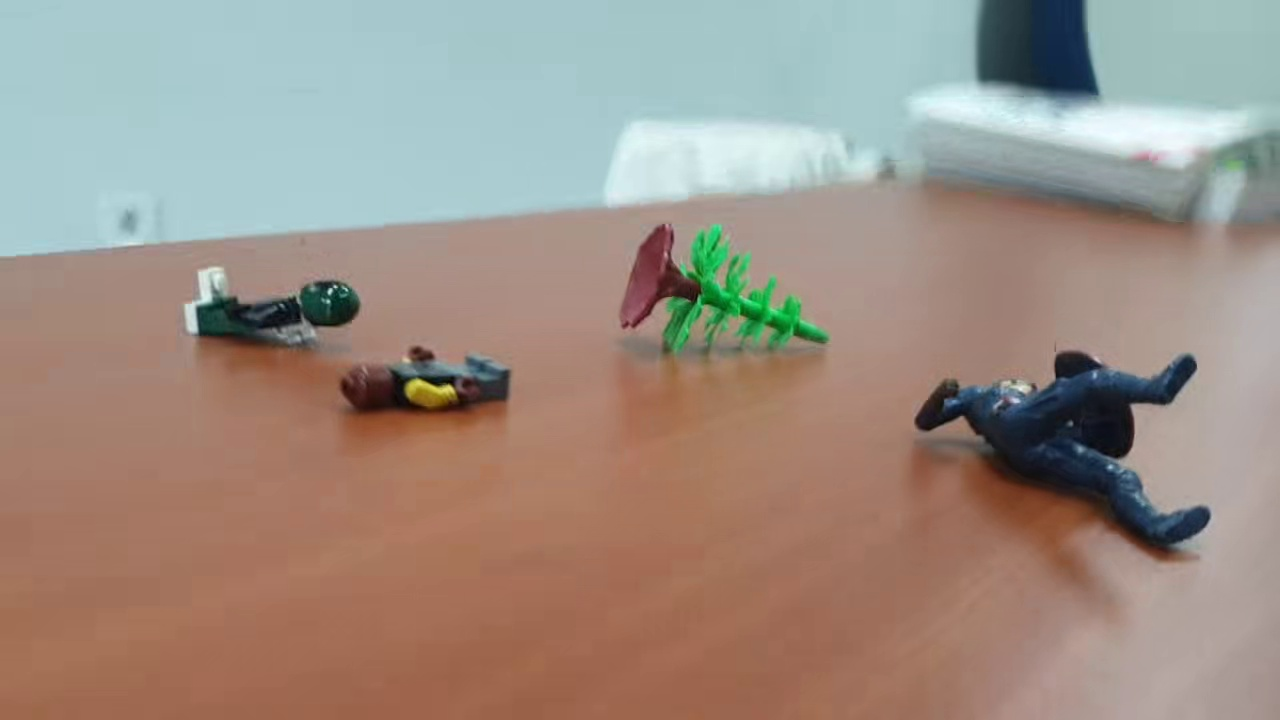people: (912, 348, 1212, 551), (181, 265, 363, 351), (340, 344, 512, 416)
tree: (616, 220, 829, 358)
